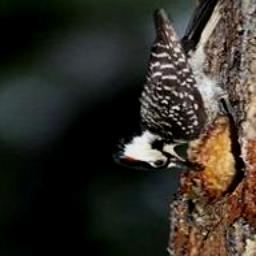Woodpecker: (103, 0, 247, 175)
